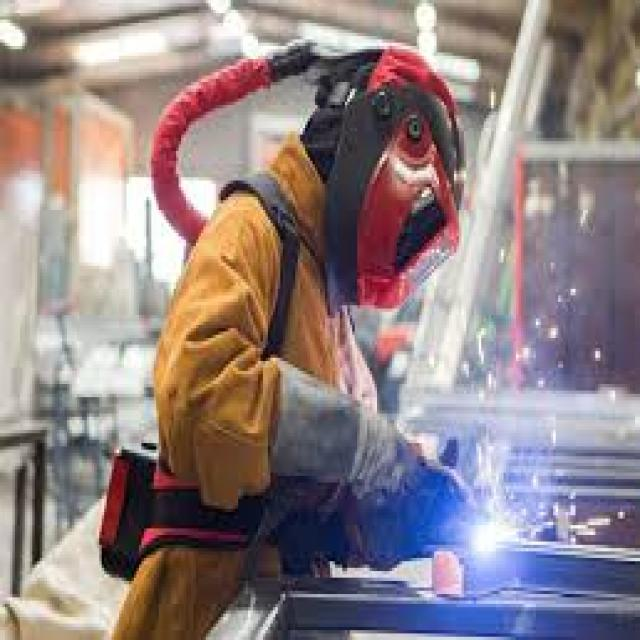welding: (470, 518, 498, 555)
